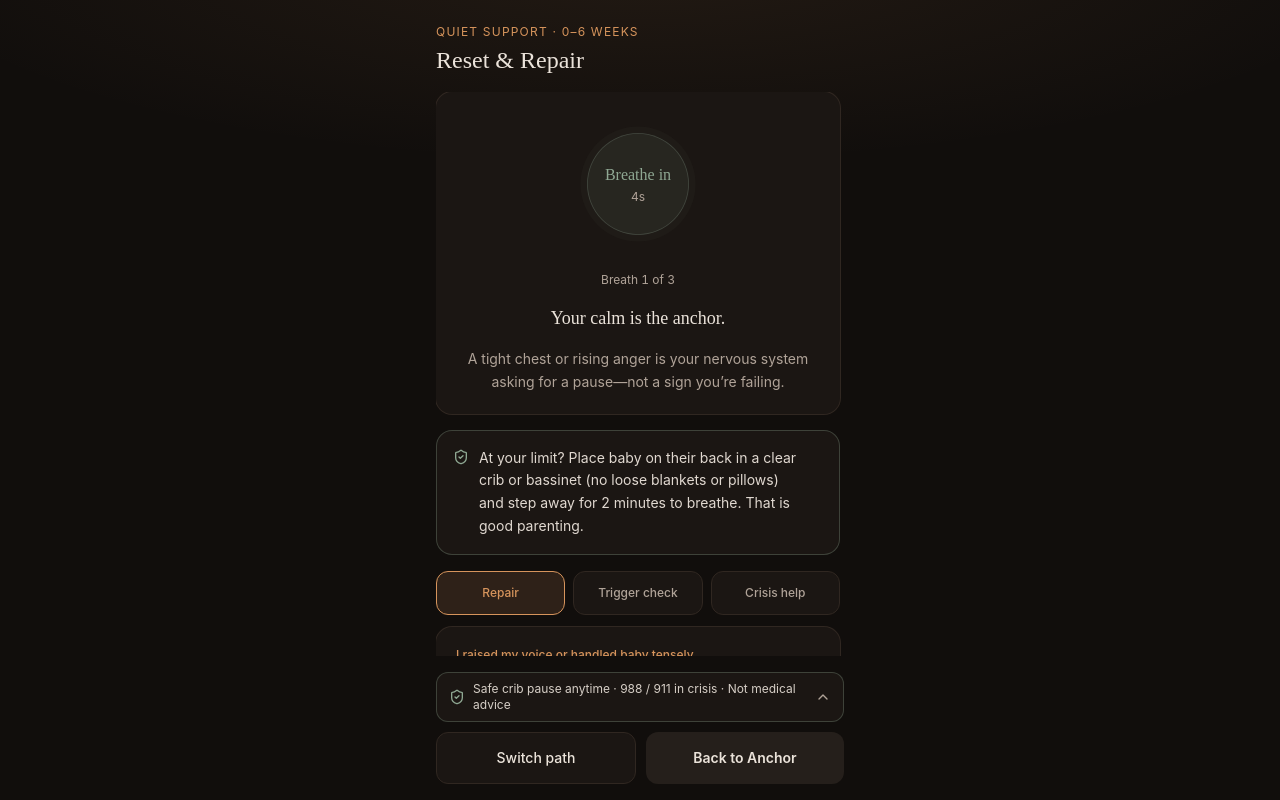
Test: SosOverlay › parent path shows live breathing pacer, safe sleep, and stepped tabs
Expected: the text "Breathe in" is shown, [605, 163, 671, 187]
Expected: the text "clear crib or bassinet" is shown, [479, 448, 796, 534]
Switch to Trigger check
Click the button "Trigger check". click: click(638, 592)
box: [573, 570, 703, 614]
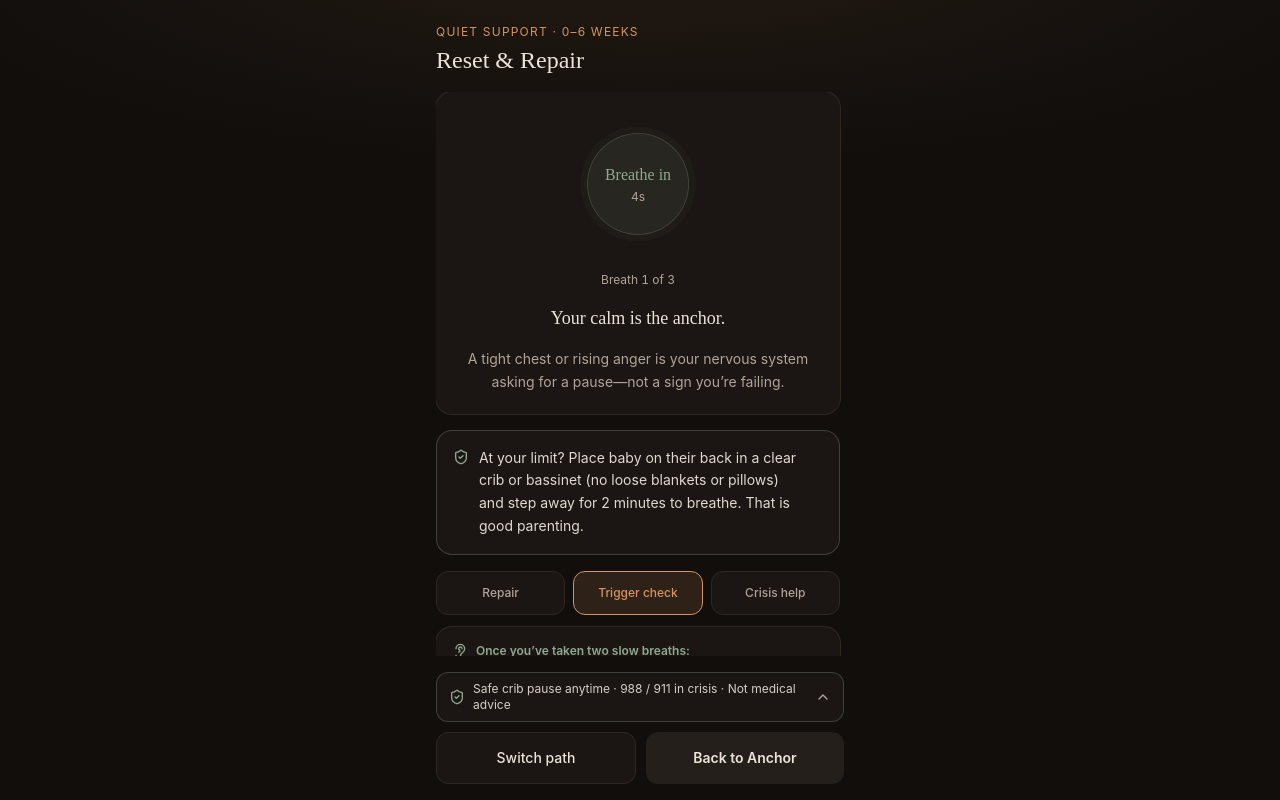
Expected: the text "Once you’ve taken two slow breaths:" is shown, [452, 642, 690, 656]
Switch to Crisis help
Click the button "Crisis help". click: click(775, 592)
box: [711, 570, 840, 614]
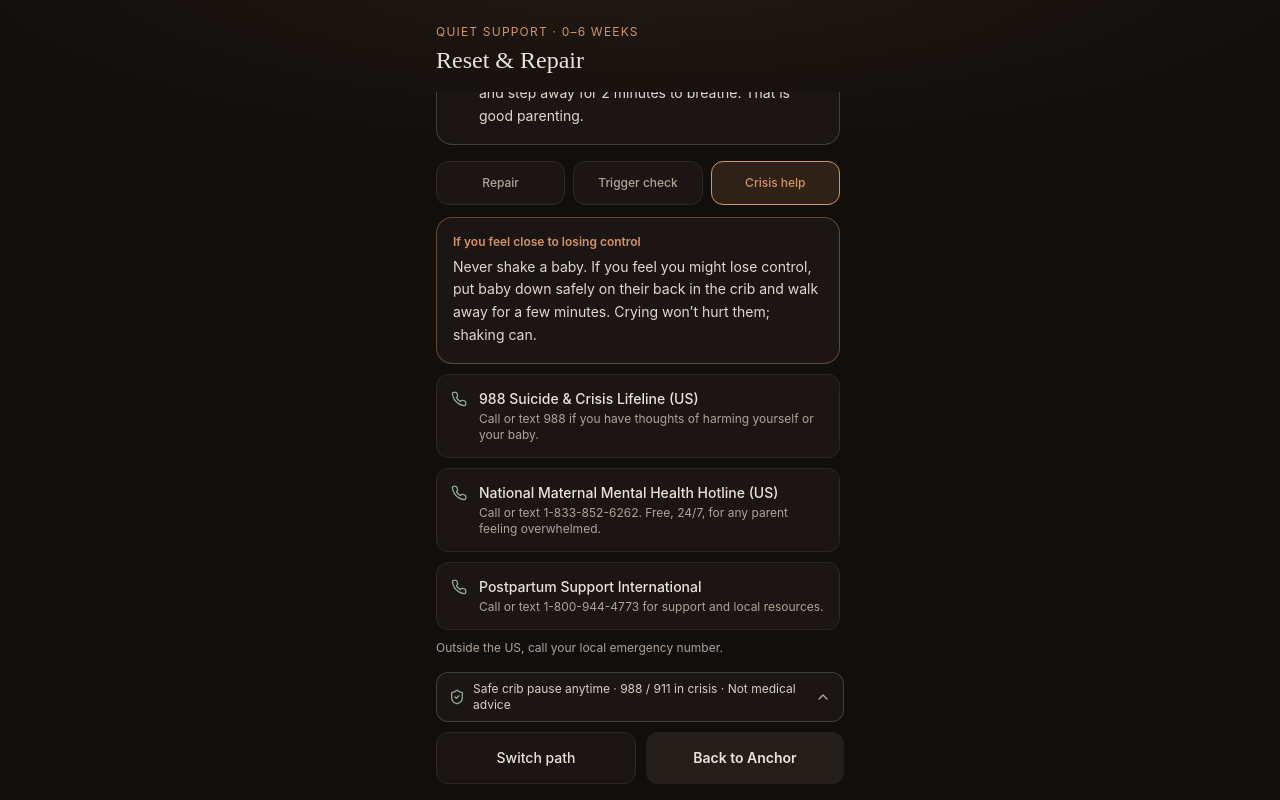
Expected: the text "Never shake a baby" is shown, [453, 258, 818, 343]
